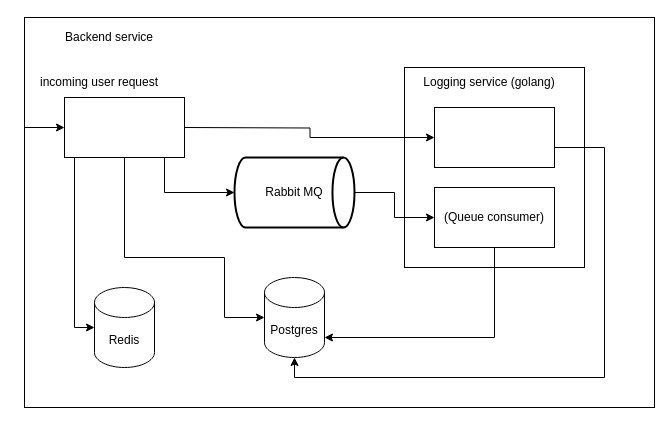
The diagram is 672 pixels wide and 425 high, and some of its shapes have lost their labels. Each missing label, with the box of its shape:
(Gin RestFul): (434, 106, 554, 168)
Game service (Fast-api): (64, 96, 184, 158)
